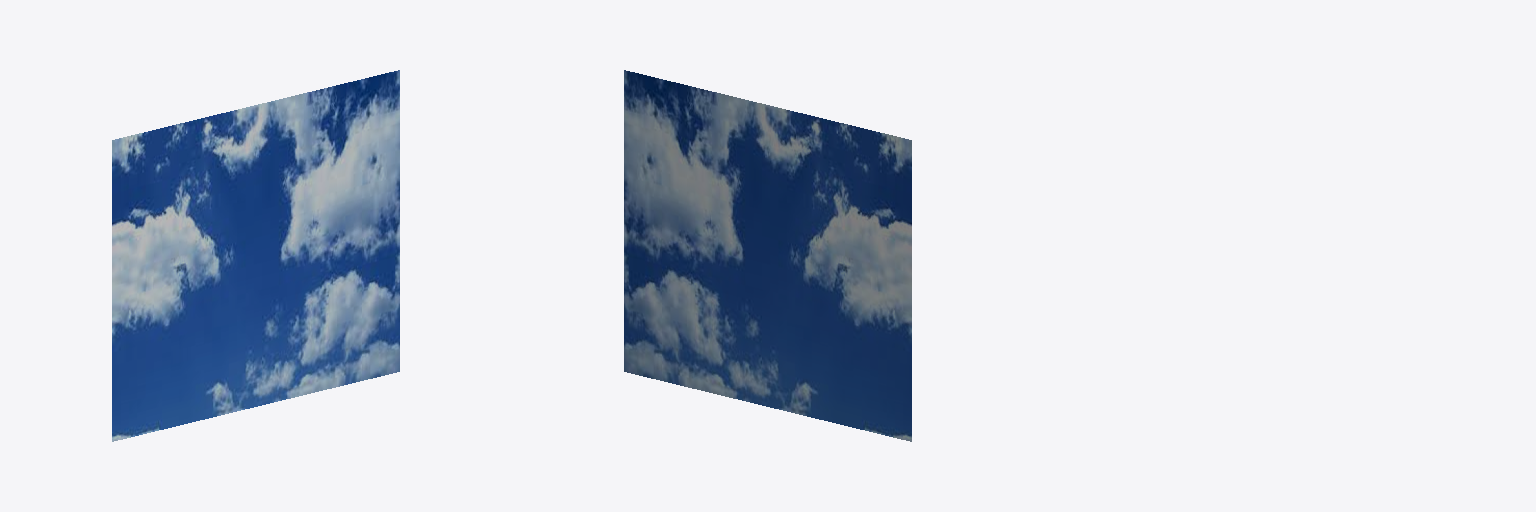
The picture shows the model from 3 angles: view 1: azimuth 30°, elevation 25°; view 2: azimuth 150°, elevation 25°; view 3: azimuth 270°, elevation 25°; orthographic projection.
Parts seen in each view (by area): view 1: Plane001; view 2: Plane001; view 3: none.
Boxes of the visible parts, x1=… form: Plane001: x1=112, y1=70, x2=399, y2=441; Plane001: x1=624, y1=70, x2=911, y2=441.
Size of the model in its own units: 30 by 30 by 0.
Materials: 1 (1 with a texture image).